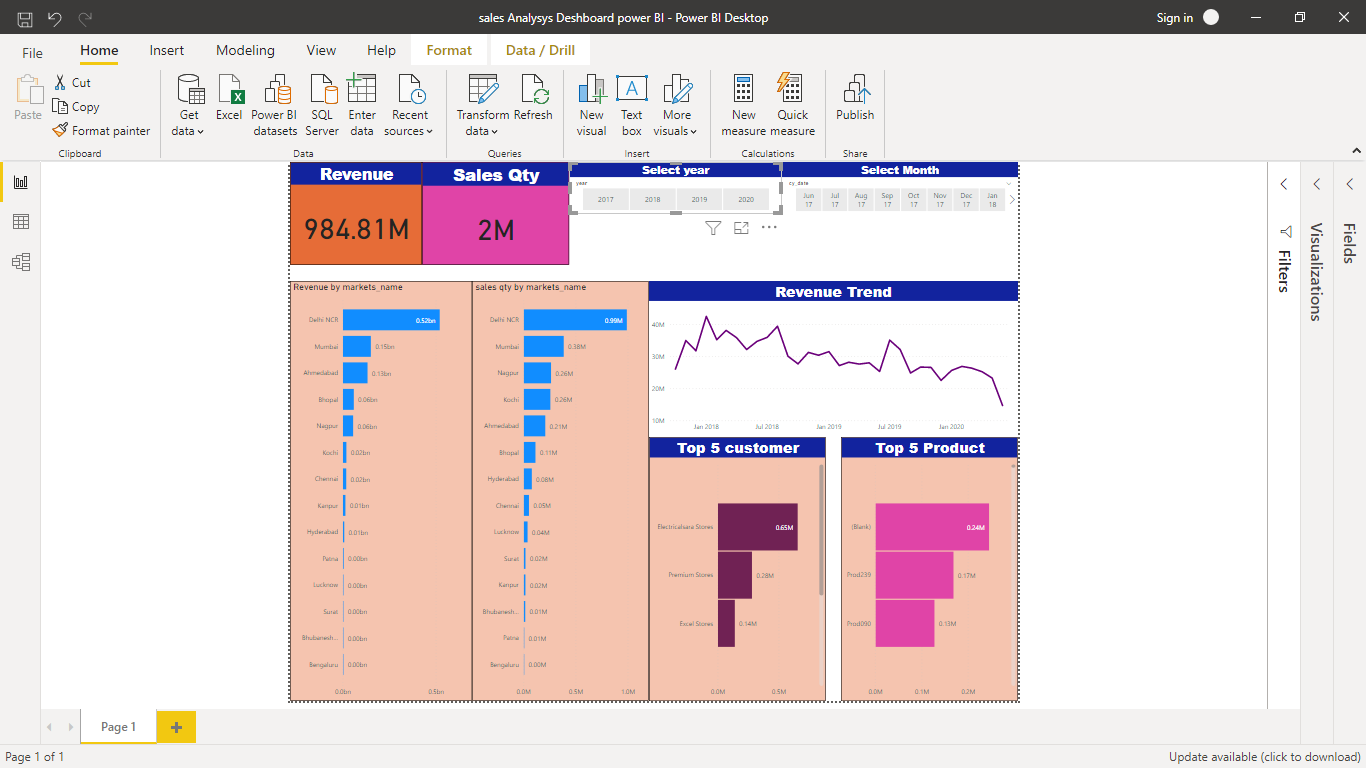

This screenshot's page, from the dashboard's own definition file:
{"tool":"powerbi","page":{"name":"Page 1","canvas":[1350,1000],"ordinal":0},"visuals":[{"type":"card","title":"Revenue","fields":{"Values":["Base_measeres.Revenue"]},"box":[0,0,244.9,191.1],"z":0},{"type":"card","title":"Sales Qty","fields":{"Values":["Base_measeres.sales qty"]},"box":[244.9,0,272.7,191.1],"z":1000},{"type":"clusteredBarChart","fields":{"Y":["Base_measeres.Revenue"],"Category":["sales markets.markets_name"]},"box":[0,220.8,337.7,779.2],"z":2000},{"type":"clusteredBarChart","fields":{"Y":["Base_measeres.sales qty"],"Category":["sales markets.markets_name"]},"box":[337.7,220.8,328.4,779.2],"z":3000},{"type":"slicer","title":"Select year","fields":{"Values":["sales date.year"]},"box":[517.6,0,395.2,96.5],"z":4000},{"type":"slicer","title":"Select Month","fields":{"Values":["sales date.cy_date"]},"box":[912.8,0,437.8,96.5],"z":5000},{"type":"clusteredBarChart","title":"Top 5 customer","fields":{"Y":["Base_measeres.sales qty"],"Category":["sales customers.custmer_name"]},"box":[666,510.2,328.4,489.8],"z":6000},{"type":"clusteredBarChart","title":"Top 5 Product","fields":{"Y":["Base_measeres.sales qty"],"Category":["sales products.product_code"]},"box":[1022.3,510.2,328.4,489.8],"z":7000},{"type":"lineChart","title":"Revenue Trend","fields":{"Y":["Base_measeres.Revenue"],"Category":["sales date.cy_date"]},"box":[666,220.8,684.6,289.4],"z":8000}]}

Visuals, with their boxes on the page's 1350x1000 design canvas (x1, y1, x2, y2). These are canvas units, not pixel positions in the 1366x768 screenshot, which may show the page scaled, cropped or inside an application window:
"Revenue" card: left=0, top=0, right=245, bottom=191
"Sales Qty" card: left=245, top=0, right=518, bottom=191
clusteredBarChart - Base_measeres.Revenue x sales markets.markets_name: left=0, top=221, right=338, bottom=1000
clusteredBarChart - Base_measeres.sales qty x sales markets.markets_name: left=338, top=221, right=666, bottom=1000
"Select year" slicer: left=518, top=0, right=913, bottom=96
"Select Month" slicer: left=913, top=0, right=1351, bottom=96
"Top 5 customer" clusteredBarChart: left=666, top=510, right=994, bottom=1000
"Top 5 Product" clusteredBarChart: left=1022, top=510, right=1351, bottom=1000
"Revenue Trend" lineChart: left=666, top=221, right=1351, bottom=510
